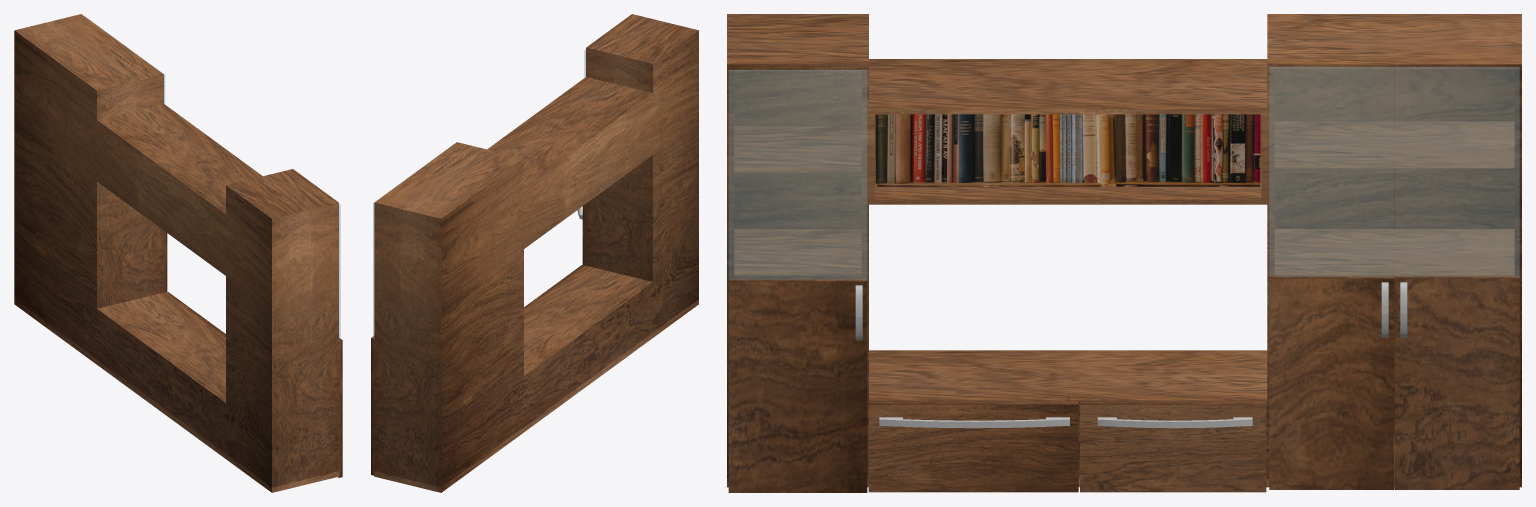
The model's file is secta.fbx.
3 views of the same model, side by side, from view 1: azimuth 30°, elevation 25°; view 2: azimuth 150°, elevation 25°; view 3: azimuth 270°, elevation 25° (orthographic). The views are drawn at different scales.
Visible parts, largest first — view 1: Cube, Cube.001; view 2: Cube, Cube.008; view 3: Cube, Cube.001, Cube.002, Cube.004, Cube.007, Cube.008, Cube.006, Cube.009, Cube.011, Cube.012, Cube.013, Cube.014.
Part boxes in pixels (x1,y1,x2,y2): Cube: (14, 14, 338, 492); Cube.001: (338, 338, 342, 477); Cube: (374, 14, 698, 492); Cube.008: (371, 336, 374, 475); Cube: (727, 14, 1521, 487); Cube.001: (728, 279, 867, 492); Cube.002: (729, 70, 866, 279); Cube.004: (875, 114, 1260, 186); Cube.007: (1269, 276, 1394, 489); Cube.008: (1394, 276, 1519, 489); Cube.006: (1269, 67, 1393, 276); Cube.009: (1395, 67, 1519, 276); Cube.011: (868, 401, 1078, 492); Cube.012: (1080, 401, 1266, 492); Cube.013: (879, 417, 1069, 428); Cube.014: (1097, 417, 1252, 428).
Size of the model in its own units: 489 by 1643 by 2780.
